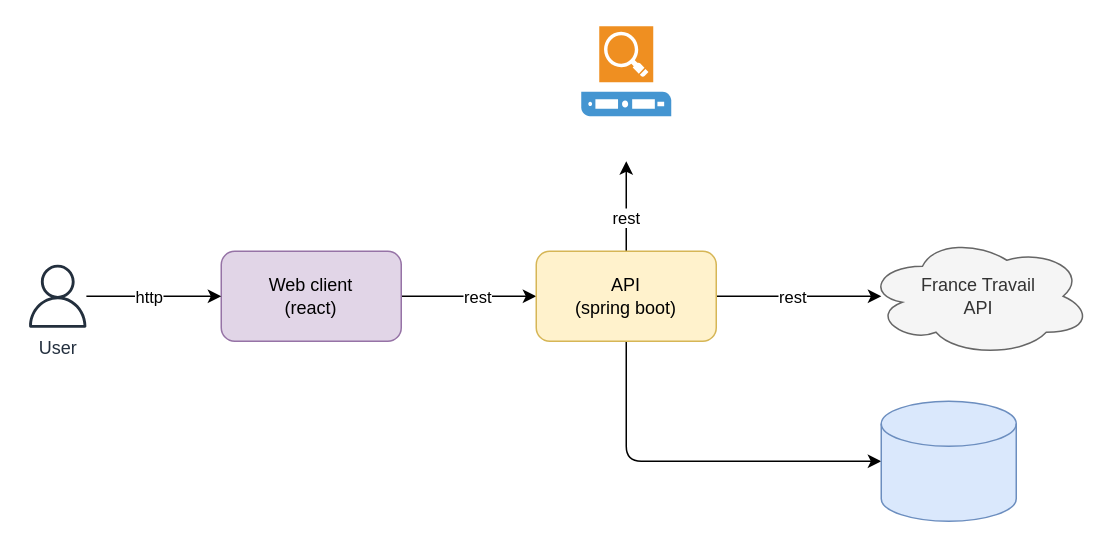
This 1118x548 diagram has some shape labels left out. The shapes that lost their labels are listed below. From the top down, each one's centre as x and y in pixels, then its label:
At (x=625, y=71): "ElasticSearch".
At (x=948, y=460): "PostgreSQL database".
